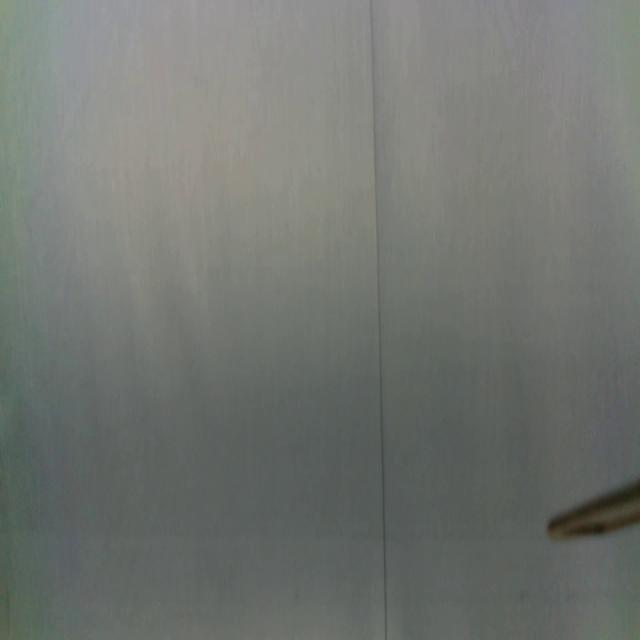crease: (368, 0, 390, 638)
